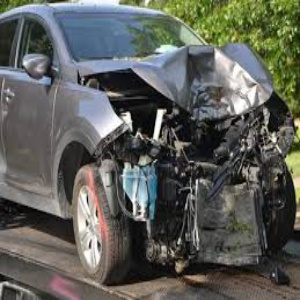bonnet: (144, 42, 274, 117)
bumper: (133, 137, 275, 276)
